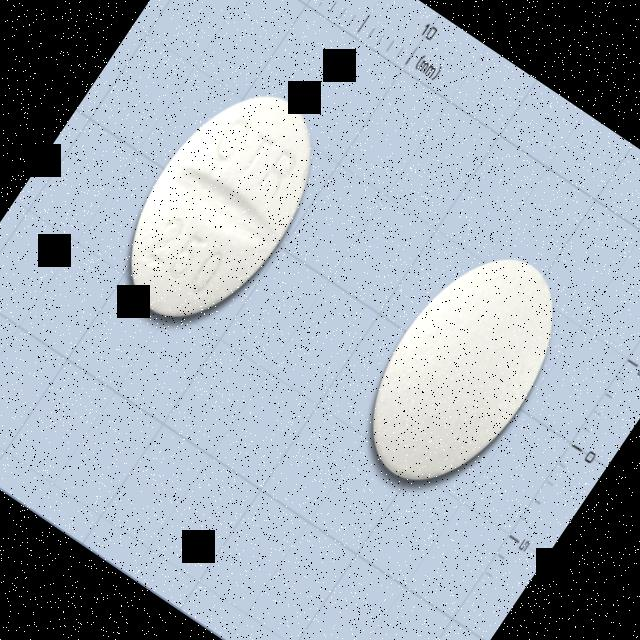Citro: (90, 61, 352, 354)
